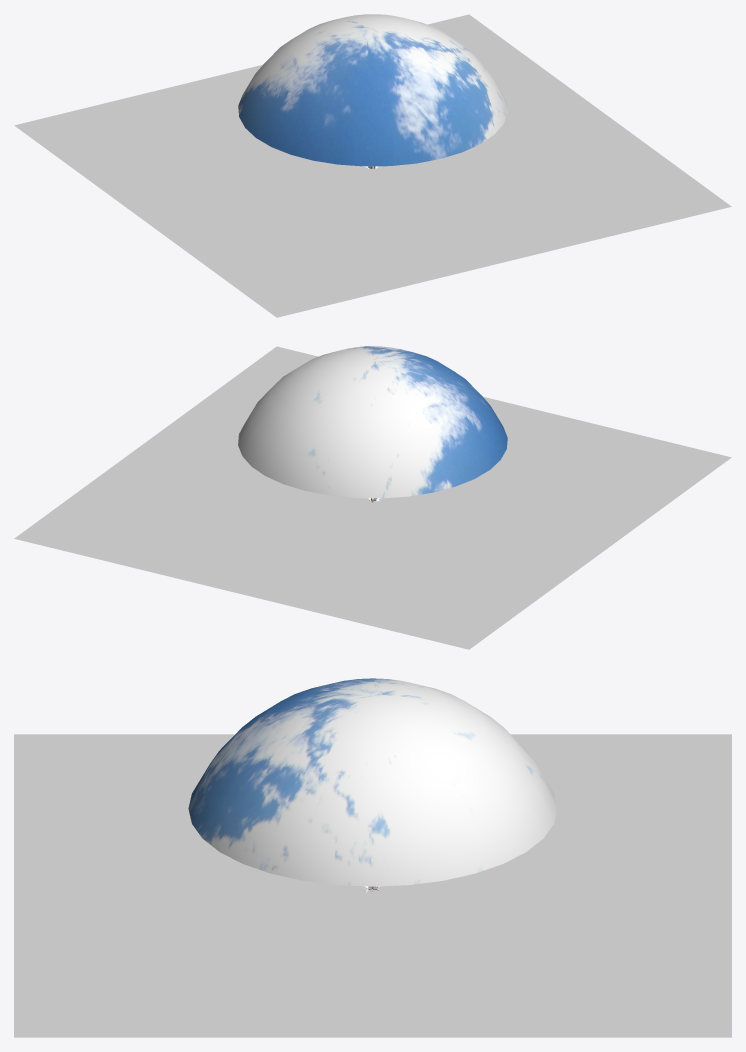
The model's file is luftbadleopold.glb.
3 renders of one model, top to bottom at view 1: azimuth 30°, elevation 25°; view 2: azimuth 150°, elevation 25°; view 3: azimuth 270°, elevation 25°, orthographic. The views are drawn at different scales.
Parts seen in each view (by area): view 1: clip, sky; view 2: clip, sky; view 3: clip, sky.
Boxes of the visible parts, bbox=[...] form: clip: bbox=[14, 14, 731, 317]; sky: bbox=[238, 14, 507, 166]; clip: bbox=[14, 346, 731, 649]; sky: bbox=[238, 346, 507, 498]; clip: bbox=[14, 734, 731, 1037]; sky: bbox=[188, 678, 557, 886].
Bounding box in the file's own units: 369 × 119 × 369.
4 materials, 1 textured.
